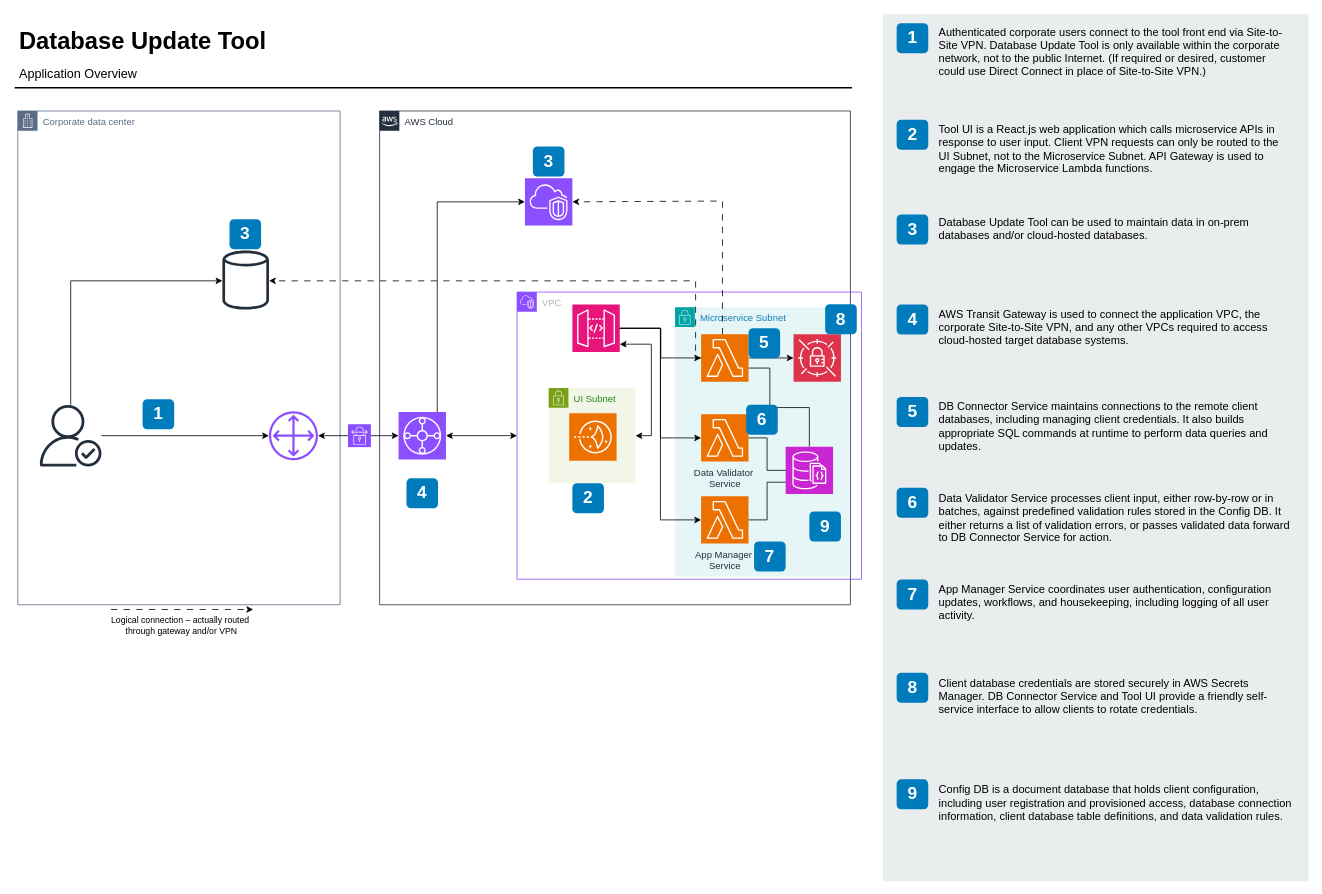
This 1322x894 diagram has some shape labels left out. The centre of each missing label's shape, as x and y in pixels:
"API Gateway" goes at (x=596, y=328).
"Cloud Database VPC" goes at (x=548, y=201).
"Config DB" goes at (x=809, y=470).
"Customer Gateway" goes at (x=293, y=435).
"DB Connector Service" goes at (x=724, y=357).
"On-Prem Database" goes at (x=245, y=279).
"Secrets Mgr" goes at (x=817, y=357).
"Site- to- site VPN" goes at (x=359, y=435).
"Tool UI" goes at (x=592, y=437).
"Transit Gateway" goes at (x=422, y=435).
